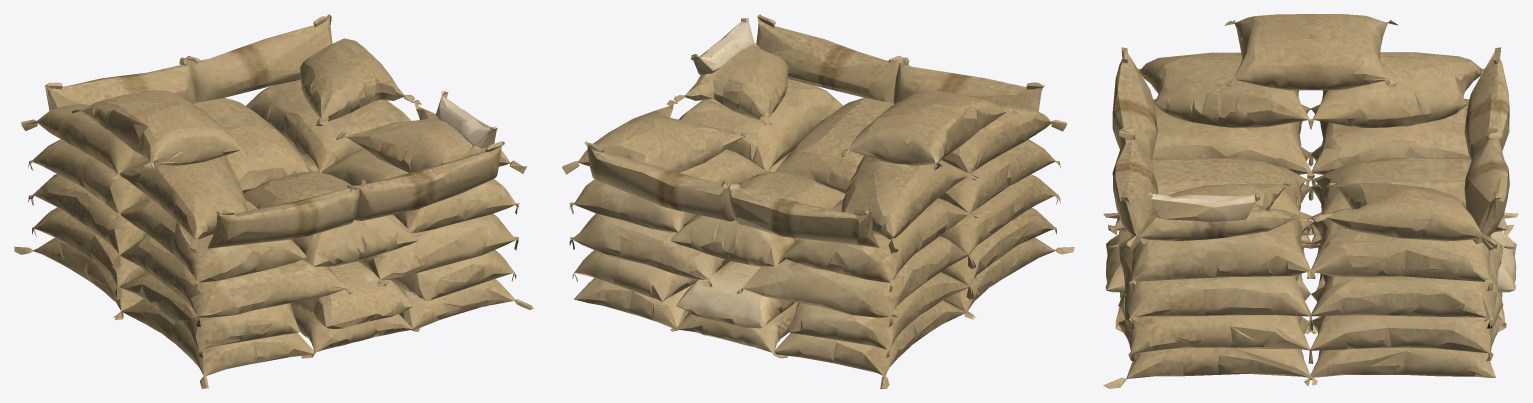
The model's file is prop_sandbags.glb.
The picture shows the model from 3 angles, left to right: view 1: azimuth 30°, elevation 25°; view 2: azimuth 150°, elevation 25°; view 3: azimuth 270°, elevation 25°; orthographic projection. The views are drawn at different scales.
Size of the model in its own units: 1.9 by 1.09 by 1.89.
1 material, 1 textured.
